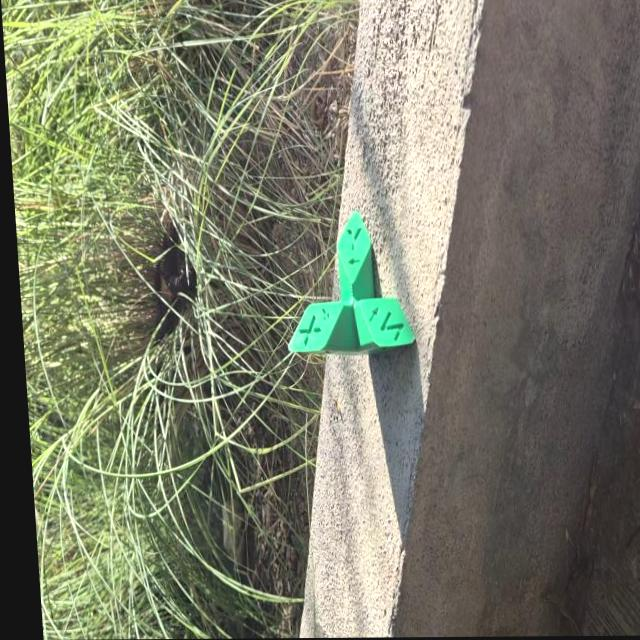eje: (276, 207, 417, 361)
